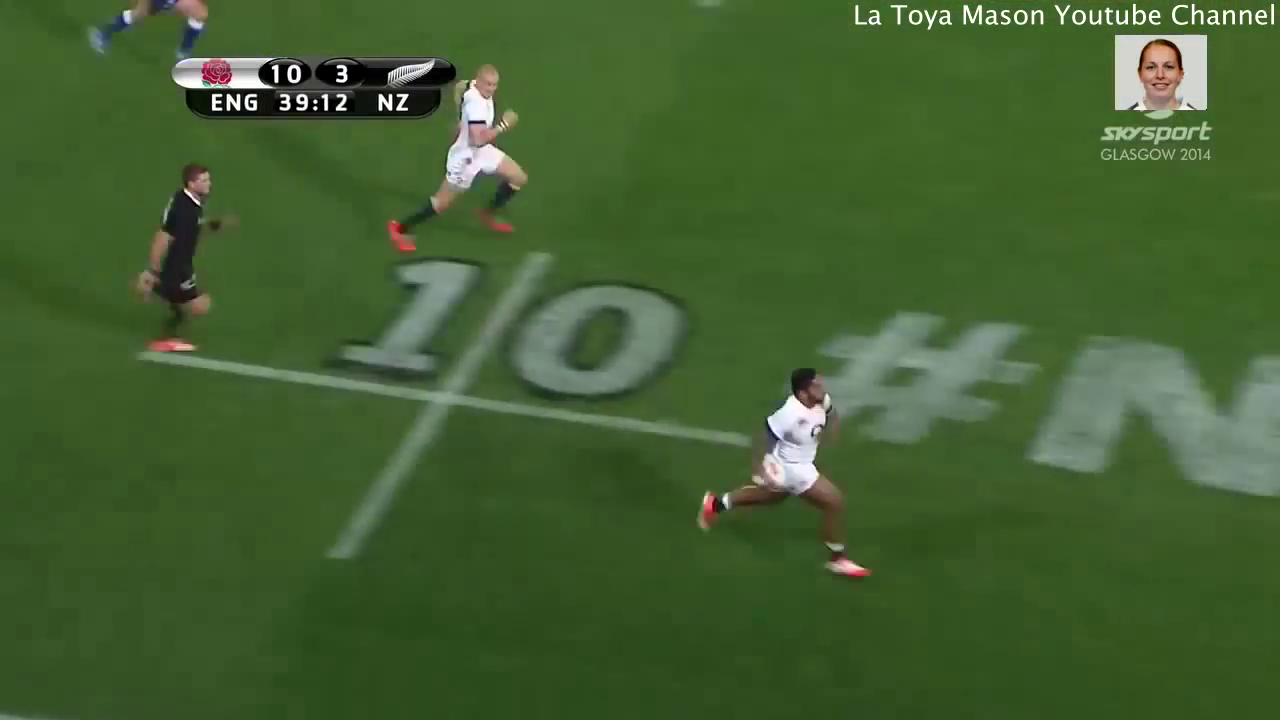10_metre: (125, 241, 758, 575)
ball: (751, 447, 796, 502)
player: (686, 363, 879, 588), (385, 70, 540, 255), (127, 164, 230, 365)
